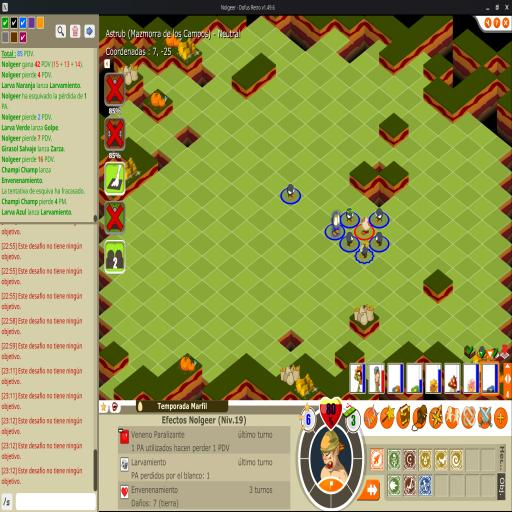Enemigos: (331, 210, 342, 236), (358, 238, 370, 260), (286, 183, 296, 201), (346, 208, 356, 224), (374, 208, 384, 224), (346, 231, 356, 247), (374, 231, 384, 247)
Personaje: (361, 216, 371, 236)
